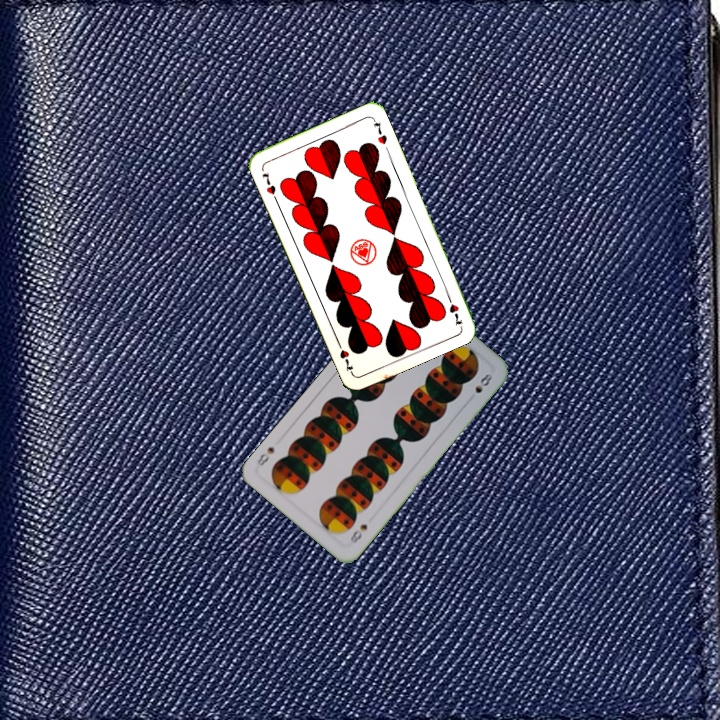H7: (443, 290, 465, 328), (258, 168, 280, 204)
S8: (345, 520, 370, 547)
